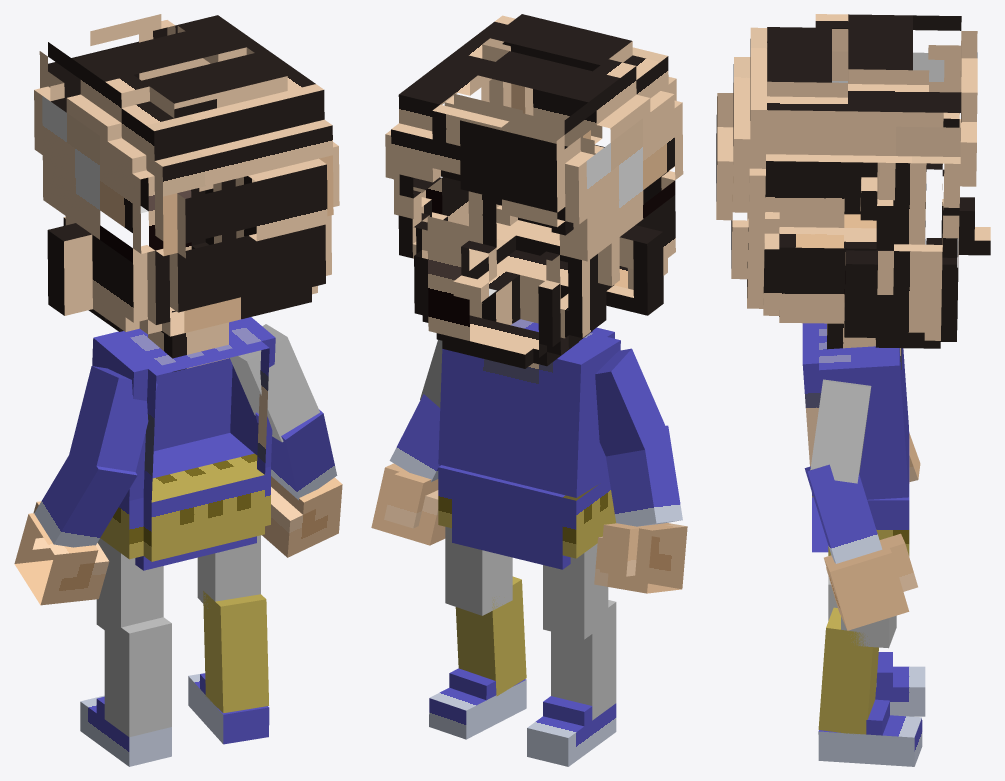
Rendered from kid_interact.dae.
The picture shows the model from 3 angles, left to right: view 1: azimuth 30°, elevation 25°; view 2: azimuth 150°, elevation 25°; view 3: azimuth 270°, elevation 25°; orthographic projection. The views are drawn at different scales.
Visible parts, largest first — view 1: Head-local, Chest-local, Hip-local, Left_Leg-local, Right_Leg-local, Left_Arm-local, Left_Forearm-local, Left_Hand-local, Right_Arm-local, Left_Thigh-local, Right_Hand-local, Right_Forearm-local (+3 smaller); view 2: Head-local, Chest-local, Hip-local, Left_Hand-local, Left_Arm-local, Right_Leg-local, Left_Leg-local, Left_Forearm-local, Right_Foot-local, Left_Thigh-local, Left_Foot-local, Right_Hand-local (+3 smaller); view 3: Head-local, Chest-local, Right_Hand-local, Right_Leg-local, Right_Arm-local, Right_Foot-local, Right_Forearm-local, Left_Foot-local, Hip-local, Right_Thigh-local.
Part boxes in pixels (box(x1,y1,x2,y2)): Head-local: box(34, 14, 339, 371); Chest-local: box(92, 317, 275, 504); Hip-local: box(100, 453, 270, 570); Left_Leg-local: box(104, 616, 171, 737); Right_Leg-local: box(203, 591, 268, 713); Left_Arm-local: box(68, 366, 157, 472); Left_Forearm-local: box(34, 455, 137, 547); Left_Hand-local: box(14, 501, 109, 605); Right_Arm-local: box(230, 324, 319, 442); Left_Thigh-local: box(96, 538, 163, 641); Right_Hand-local: box(262, 476, 342, 557); Right_Forearm-local: box(255, 409, 337, 500); Head-local: box(385, 14, 683, 368); Chest-local: box(438, 319, 620, 497); Hip-local: box(438, 465, 615, 569); Left_Hand-local: box(594, 523, 687, 593); Left_Arm-local: box(595, 348, 667, 456); Right_Leg-local: box(455, 576, 526, 696); Left_Leg-local: box(551, 600, 616, 720); Left_Forearm-local: box(606, 425, 682, 526); Right_Foot-local: box(429, 668, 526, 739); Left_Thigh-local: box(543, 543, 608, 639); Left_Foot-local: box(527, 696, 616, 766); Right_Hand-local: box(371, 463, 445, 545); Head-local: box(716, 14, 990, 349); Chest-local: box(802, 323, 908, 499); Right_Hand-local: box(824, 533, 917, 630); Right_Leg-local: box(818, 607, 878, 734); Right_Arm-local: box(810, 379, 871, 483); Right_Foot-local: box(818, 699, 922, 766); Right_Forearm-local: box(804, 464, 882, 563); Left_Foot-local: box(875, 652, 925, 716); Hip-local: box(812, 432, 909, 555); Right_Thigh-local: box(841, 615, 896, 648).
Bounding box in the file's own units: 21.01 × 46.03 × 16.95.
